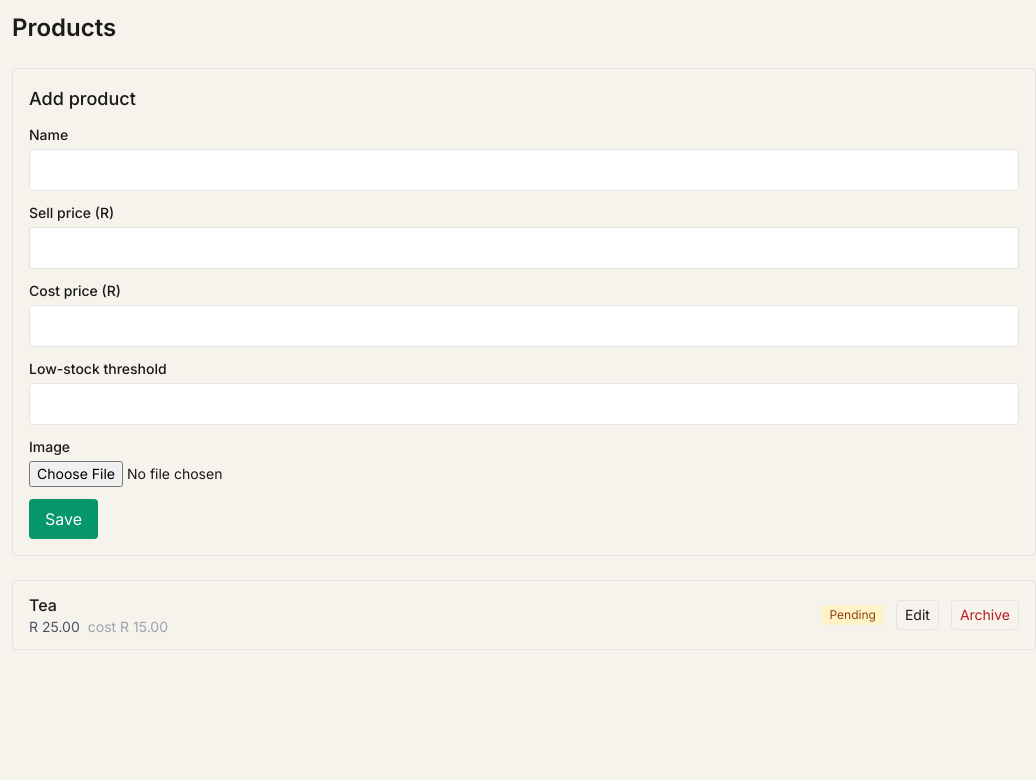
Test: ProductsPage › opens the edit form pre-filled when Edit is clicked
The width and height of the screenshot is (1036, 780).
Expected: the text "Tea" is shown, 29,595 -> 57,615
Click the button "Edit" at (917, 615), box 896,600 -> 939,630
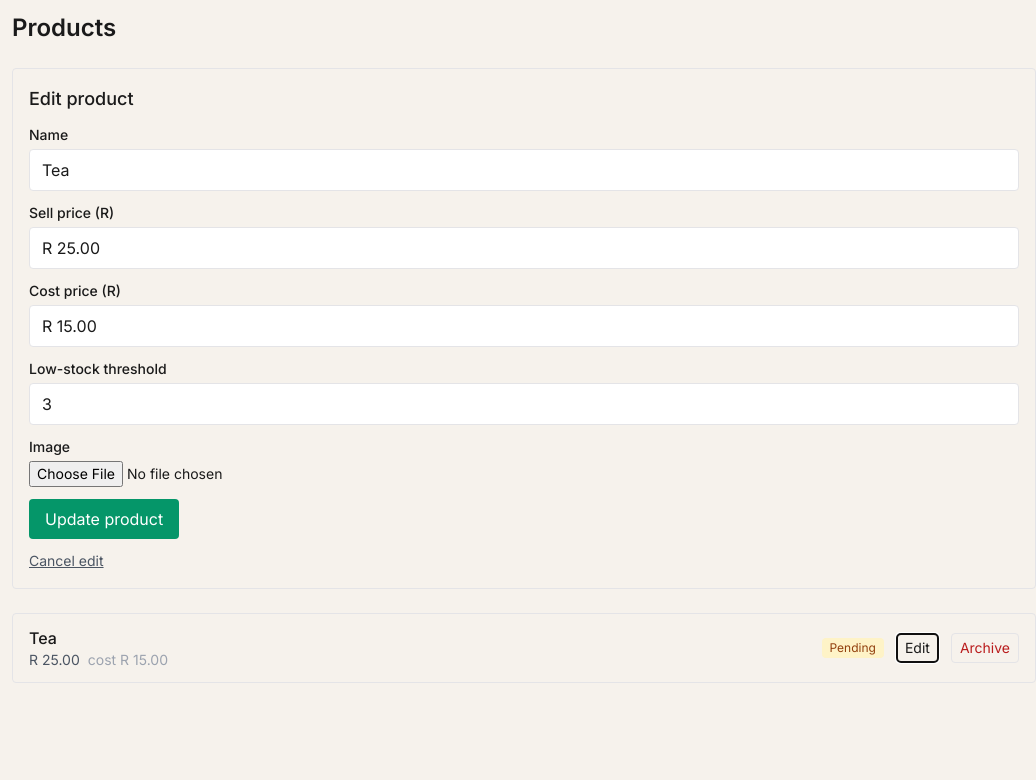
Expected: the field labelled "Name" holds "Tea", 29,149 -> 1019,191
Expected: the field labelled "Sell price (R)" holds "R 25.00", 29,227 -> 1019,269
Expected: the field labelled "Cost price (R)" holds "R 15.00", 29,305 -> 1019,347
